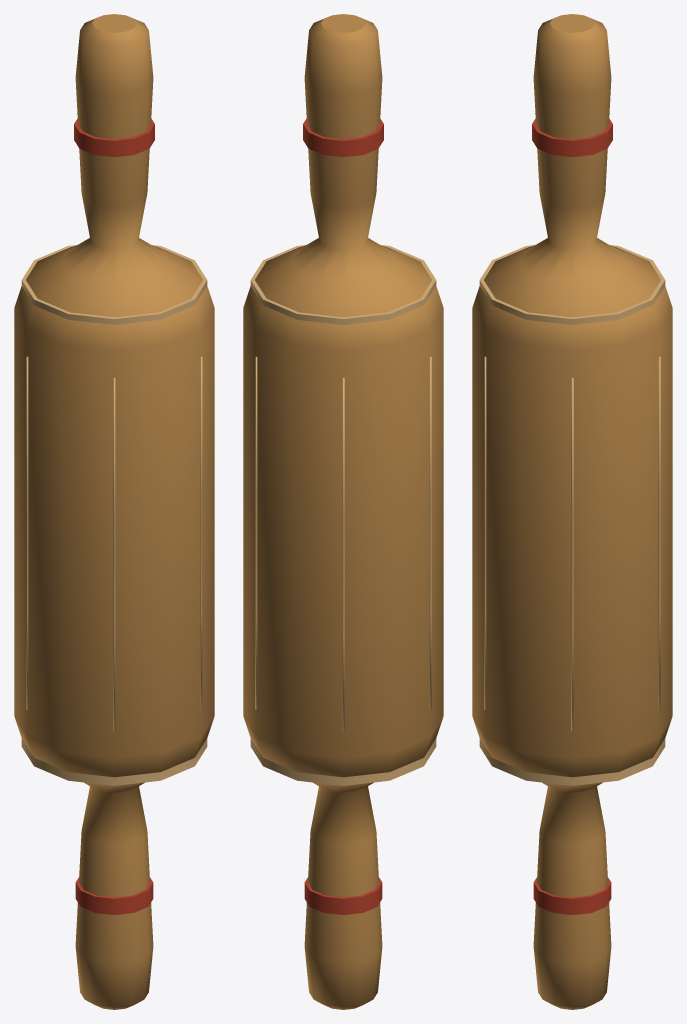
The model's file is rolling_pin_lod1.glb.
3 views of the same model, side by side, from view 1: azimuth 30°, elevation 25°; view 2: azimuth 150°, elevation 25°; view 3: azimuth 270°, elevation 25° (orthographic).
Parts seen in each view (by area): view 1: rolling_pin; view 2: rolling_pin; view 3: rolling_pin.
Boxes of the visible parts, left/top/right/bottom form: rolling_pin: left=14, top=14, right=214, bottom=1009; rolling_pin: left=243, top=14, right=443, bottom=1009; rolling_pin: left=472, top=14, right=672, bottom=1009.
Bounding box in the file's own units: 0.1358 × 0.72 × 0.134.
